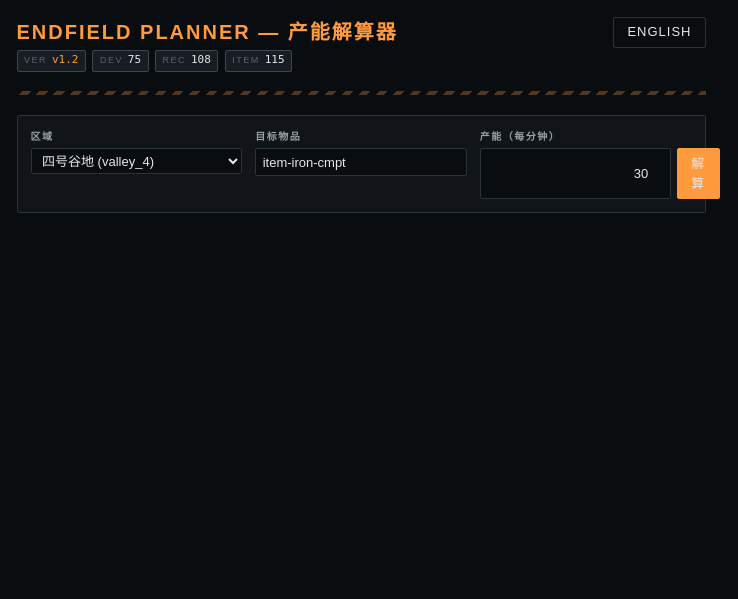
Test: SolverPanel › loads the v1.2 bundle, solves a target, and renders the recipe nodes table
The image size is (738, 599).
Check: the heading "Endfield Planner — 产能解算器" is shown, box x1=16 y1=16 x2=398 y2=46
Defaults: item-iron-cmpt at 30/min. Submit the form.
Click the button "解算". click: [699, 174]
box: x1=677 y1=148 x2=720 y2=199
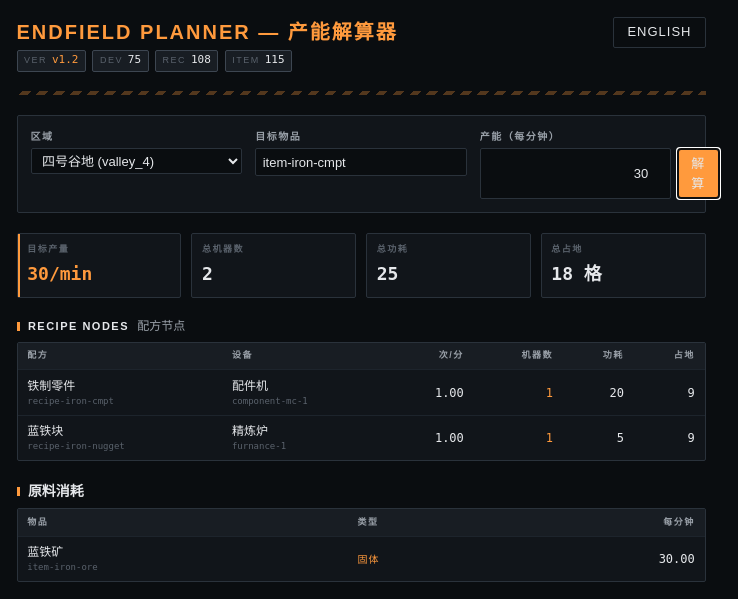
Check: the heading "RECIPE NODES 配方节点" is shown, box x1=16 y1=319 x2=185 y2=333
Check: the text "recipe-iron-cmpt" is shown, box x1=27 y1=396 x2=114 y2=406
Check: the text "recipe-iron-nugget" is shown, box x1=27 y1=441 x2=125 y2=451
